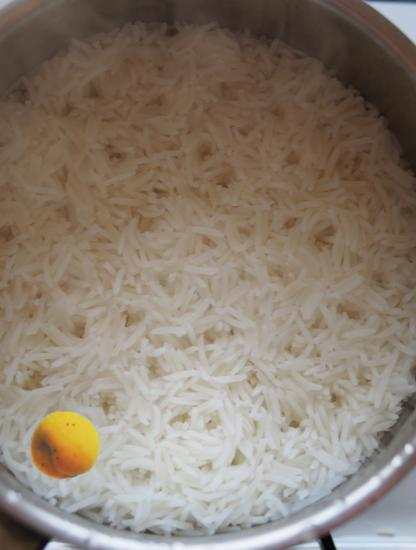Peach: (28, 408, 101, 481)
